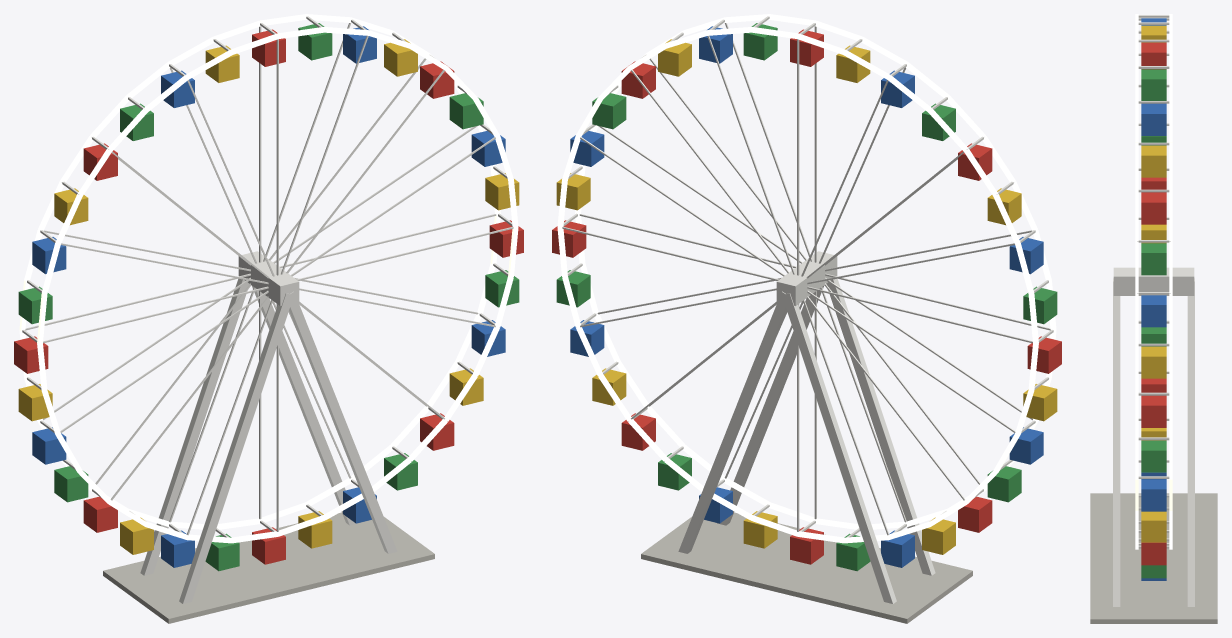
The model's file is suz_wheel.glb.
3 views of the same model, side by side, from view 1: azimuth 30°, elevation 25°; view 2: azimuth 150°, elevation 25°; view 3: azimuth 270°, elevation 25° (orthographic). The views are drawn at different scales.
Parts seen in each view (by area): view 1: suzuka-ferris-wheel; view 2: suzuka-ferris-wheel; view 3: suzuka-ferris-wheel.
Boxes of the visible parts, <box> form: suzuka-ferris-wheel: <box>14,14,523,623</box>; suzuka-ferris-wheel: <box>552,14,1061,623</box>; suzuka-ferris-wheel: <box>1090,14,1217,623</box>.
Size of the model in its own units: 52.2 by 54.38 by 12.
